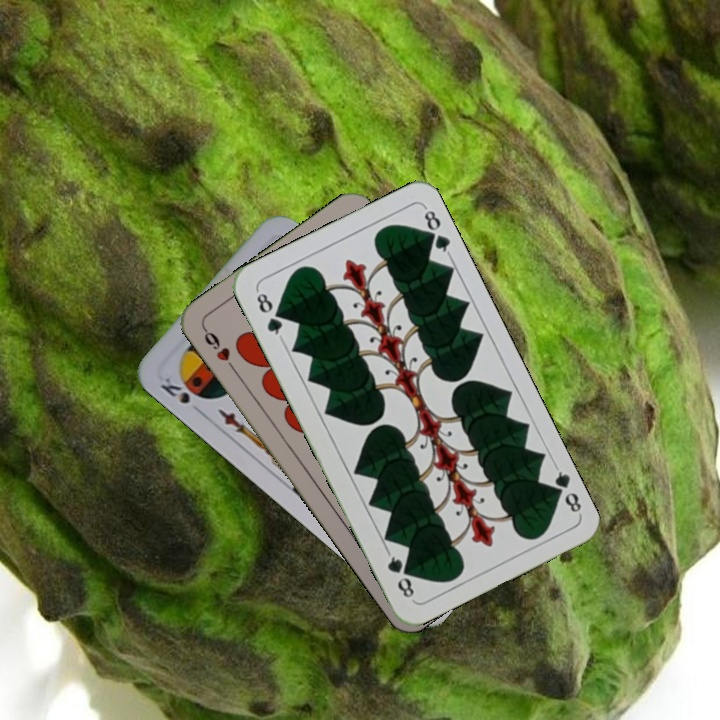G8: (545, 462, 584, 518), (252, 286, 286, 341)
H9: (199, 323, 239, 375)
SK: (156, 371, 193, 407)
